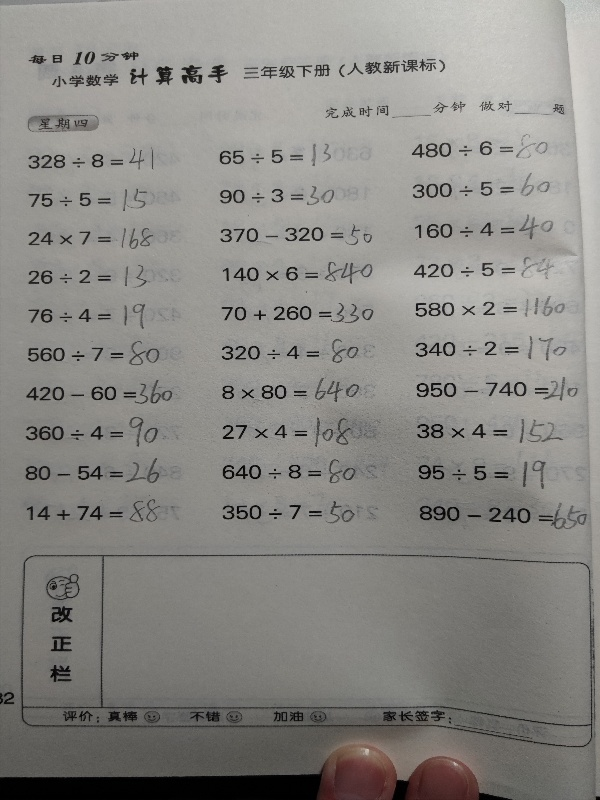equation: (417, 500, 592, 533), (218, 376, 371, 413), (415, 453, 556, 493), (219, 335, 379, 368), (413, 374, 582, 405), (22, 414, 167, 450), (220, 297, 382, 328), (19, 456, 171, 489), (219, 498, 382, 528), (412, 331, 569, 362), (217, 416, 364, 449), (23, 378, 179, 409), (217, 220, 376, 250), (414, 416, 567, 447), (411, 291, 573, 320), (220, 259, 382, 288), (408, 130, 554, 161), (24, 497, 170, 528), (411, 212, 555, 243), (24, 299, 155, 333), (24, 340, 167, 369), (216, 459, 363, 487), (410, 254, 559, 281), (24, 225, 156, 255), (25, 261, 151, 292), (25, 144, 158, 173), (24, 187, 151, 216), (408, 177, 552, 201), (215, 143, 334, 172), (216, 182, 338, 210)
